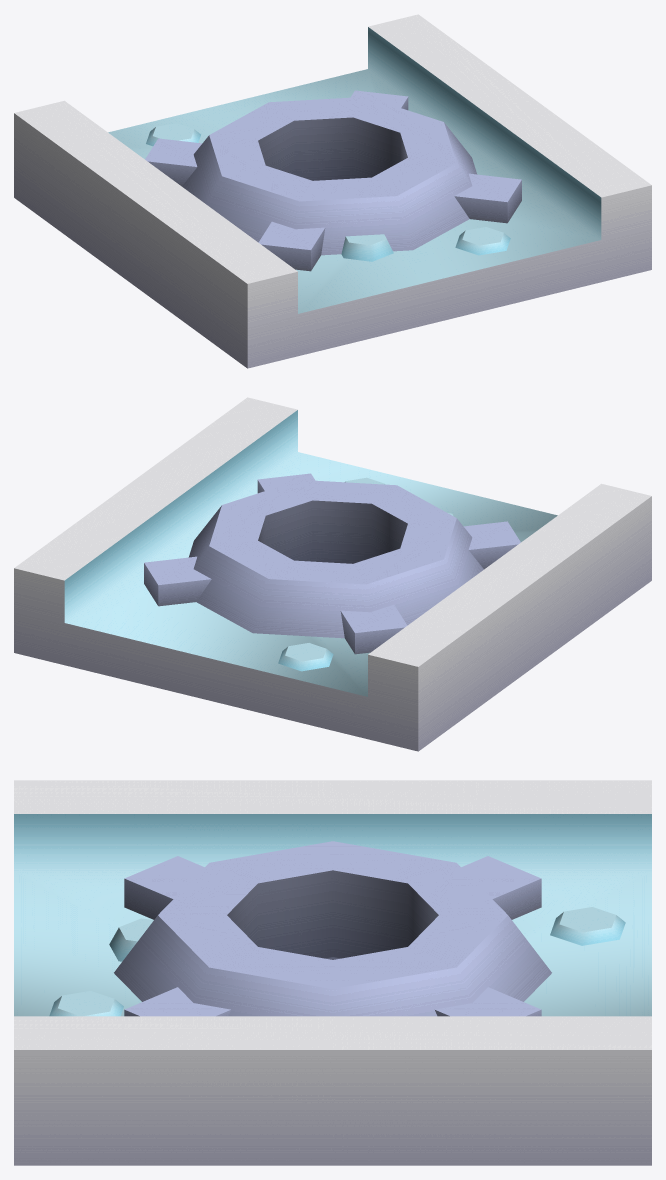
File: snow-tile-spawn-round.glb
3 views of the same model, one above another, from view 1: azimuth 30°, elevation 25°; view 2: azimuth 150°, elevation 25°; view 3: azimuth 270°, elevation 25° (orthographic). The views are drawn at different scales.
Parts seen in each view (by area): view 1: snow-tile-spawn-round; view 2: snow-tile-spawn-round; view 3: snow-tile-spawn-round.
Part boxes in pixels (bbox=[...]): snow-tile-spawn-round: bbox=[14, 14, 651, 368]; snow-tile-spawn-round: bbox=[14, 397, 651, 751]; snow-tile-spawn-round: bbox=[14, 780, 651, 1165].
Bounding box in the file's own units: 1 × 0.2 × 1.
Materials: 1 (1 with a texture image).
